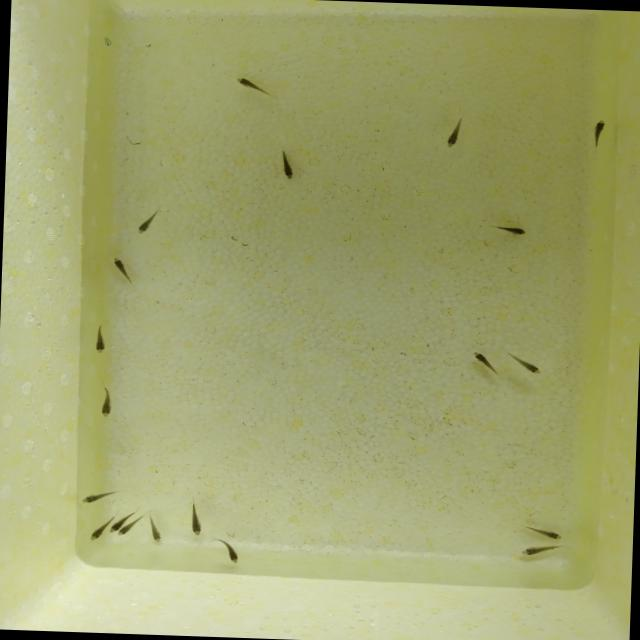fingerling: (82, 522, 112, 548), (514, 354, 546, 378), (438, 126, 467, 150), (532, 522, 566, 542), (464, 349, 496, 370), (515, 542, 552, 560), (496, 221, 530, 240), (186, 508, 207, 538), (78, 487, 110, 506), (233, 76, 264, 94), (134, 213, 156, 238), (111, 254, 132, 280), (95, 392, 114, 419), (278, 156, 297, 182), (590, 117, 608, 144), (89, 330, 108, 354), (146, 518, 162, 546), (221, 542, 243, 562), (116, 522, 136, 538), (107, 518, 123, 534)
